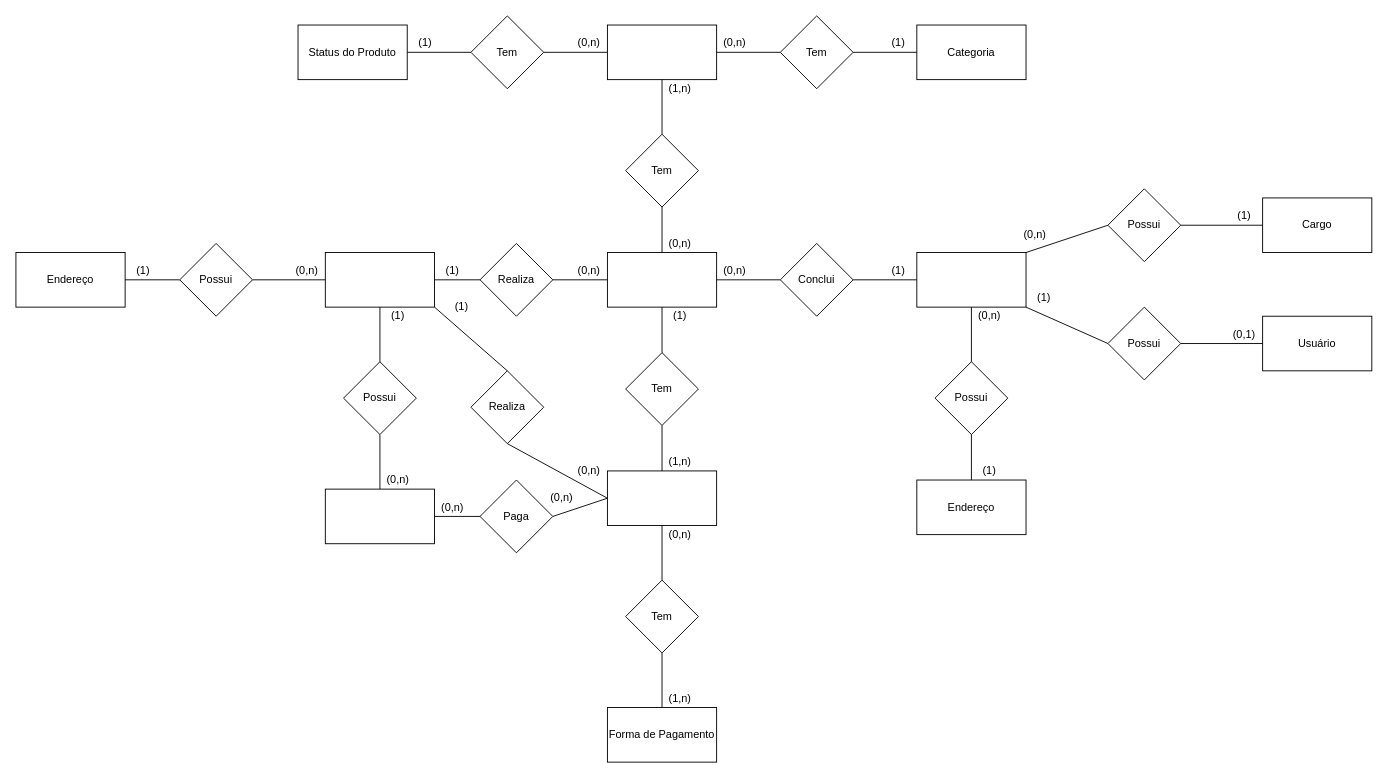
Some shapes in this 1388 by 778 pixel diagram are drawn without their labels. The box of each missing label's shape, as (x1, y1, x2, y2) in pixels:
Cartão: (324, 488, 435, 544)
Cliente: (324, 252, 435, 307)
Compra: (607, 252, 717, 307)
Funcionário: (916, 252, 1026, 307)
Pagamento: (607, 470, 717, 526)
Produto: (607, 24, 717, 80)
